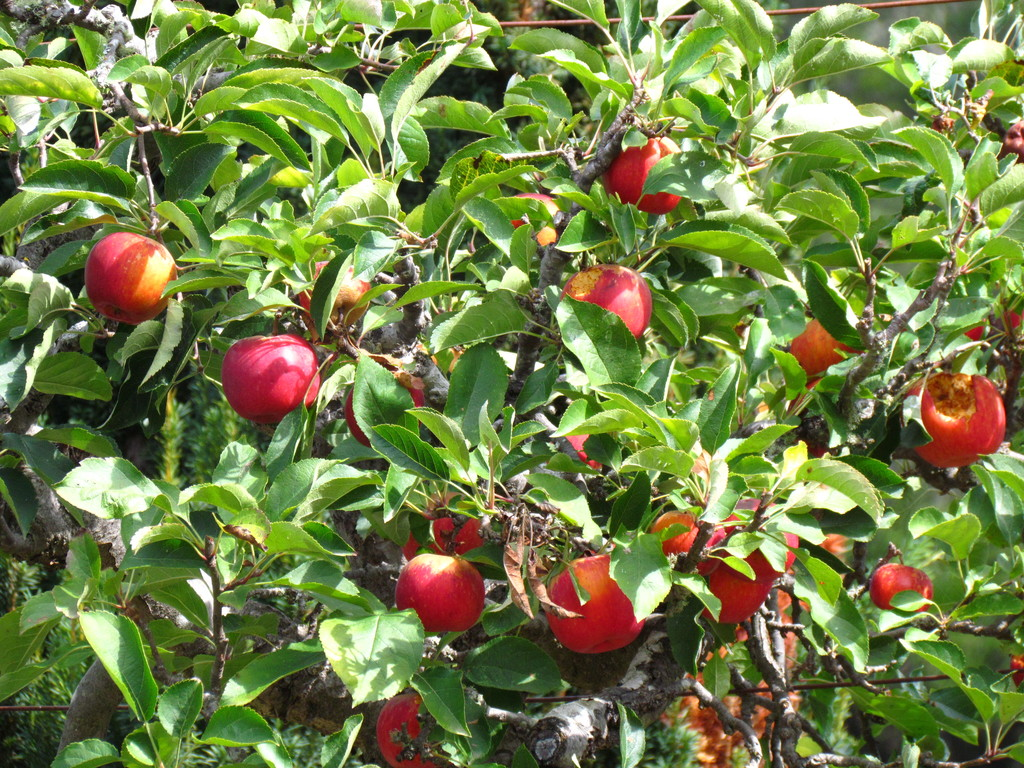Apple: (649, 510, 782, 627), (539, 554, 641, 659), (901, 375, 1009, 469), (220, 330, 321, 424), (389, 538, 484, 637), (80, 238, 176, 325), (595, 139, 694, 213), (559, 263, 654, 336), (346, 368, 424, 449), (373, 696, 446, 767), (297, 262, 370, 330), (736, 499, 805, 568), (400, 517, 488, 565), (784, 375, 832, 458), (789, 318, 867, 368), (872, 561, 932, 622), (510, 190, 562, 247), (964, 304, 1023, 343), (565, 428, 608, 465), (1002, 120, 1023, 158)
